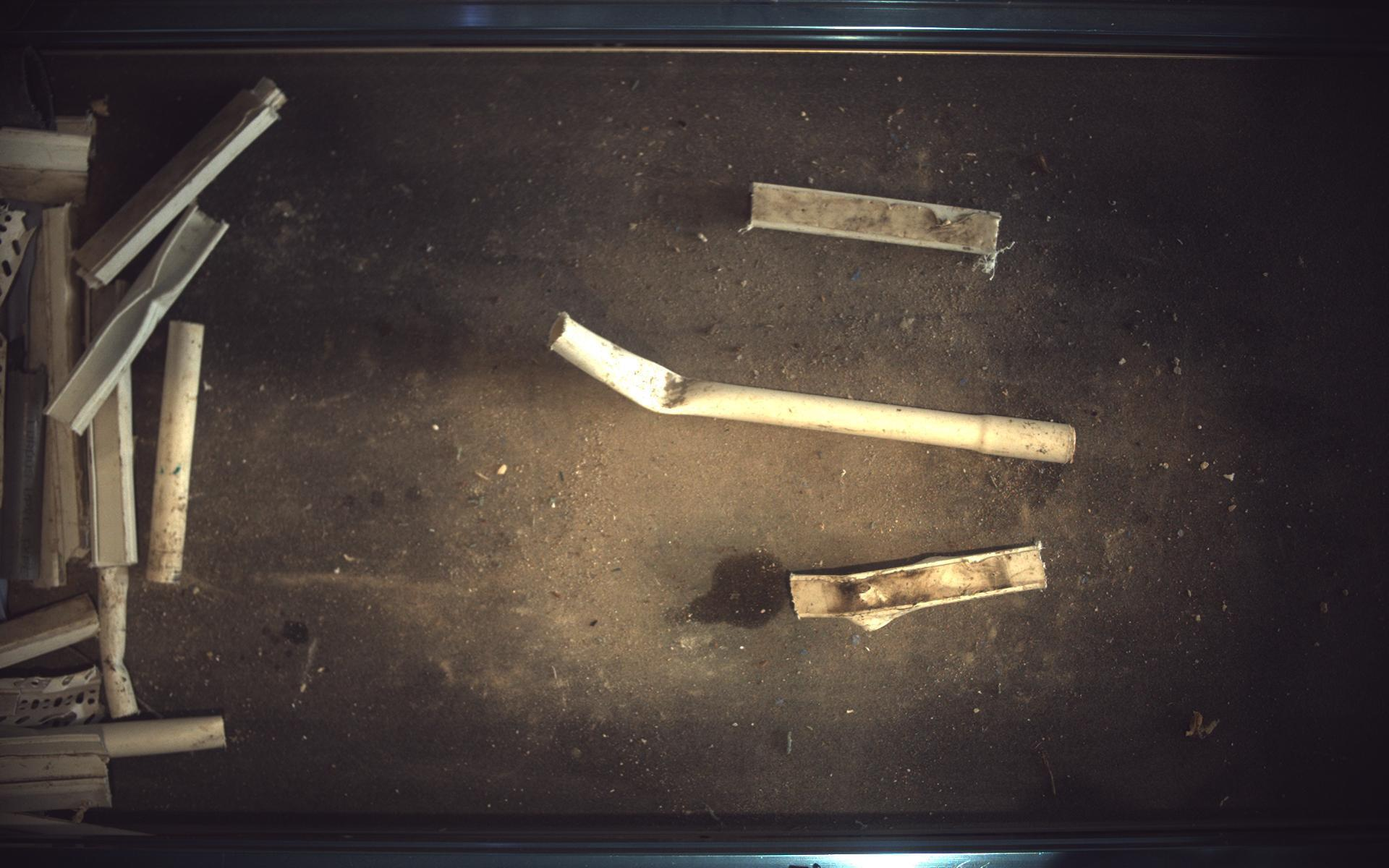pipes: (549, 312, 1079, 464)
plastic: (749, 182, 1003, 279), (791, 542, 1049, 631)
